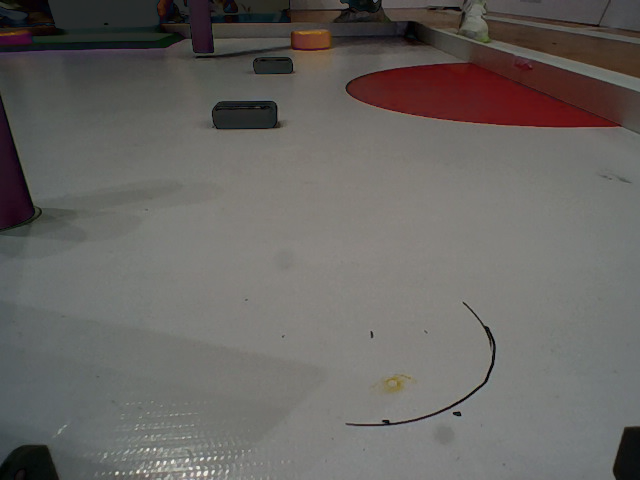black: (205, 99, 285, 129), (250, 57, 296, 74)
yellow: (290, 29, 334, 54)
zhuzi: (1, 90, 49, 225), (187, 3, 218, 55)
